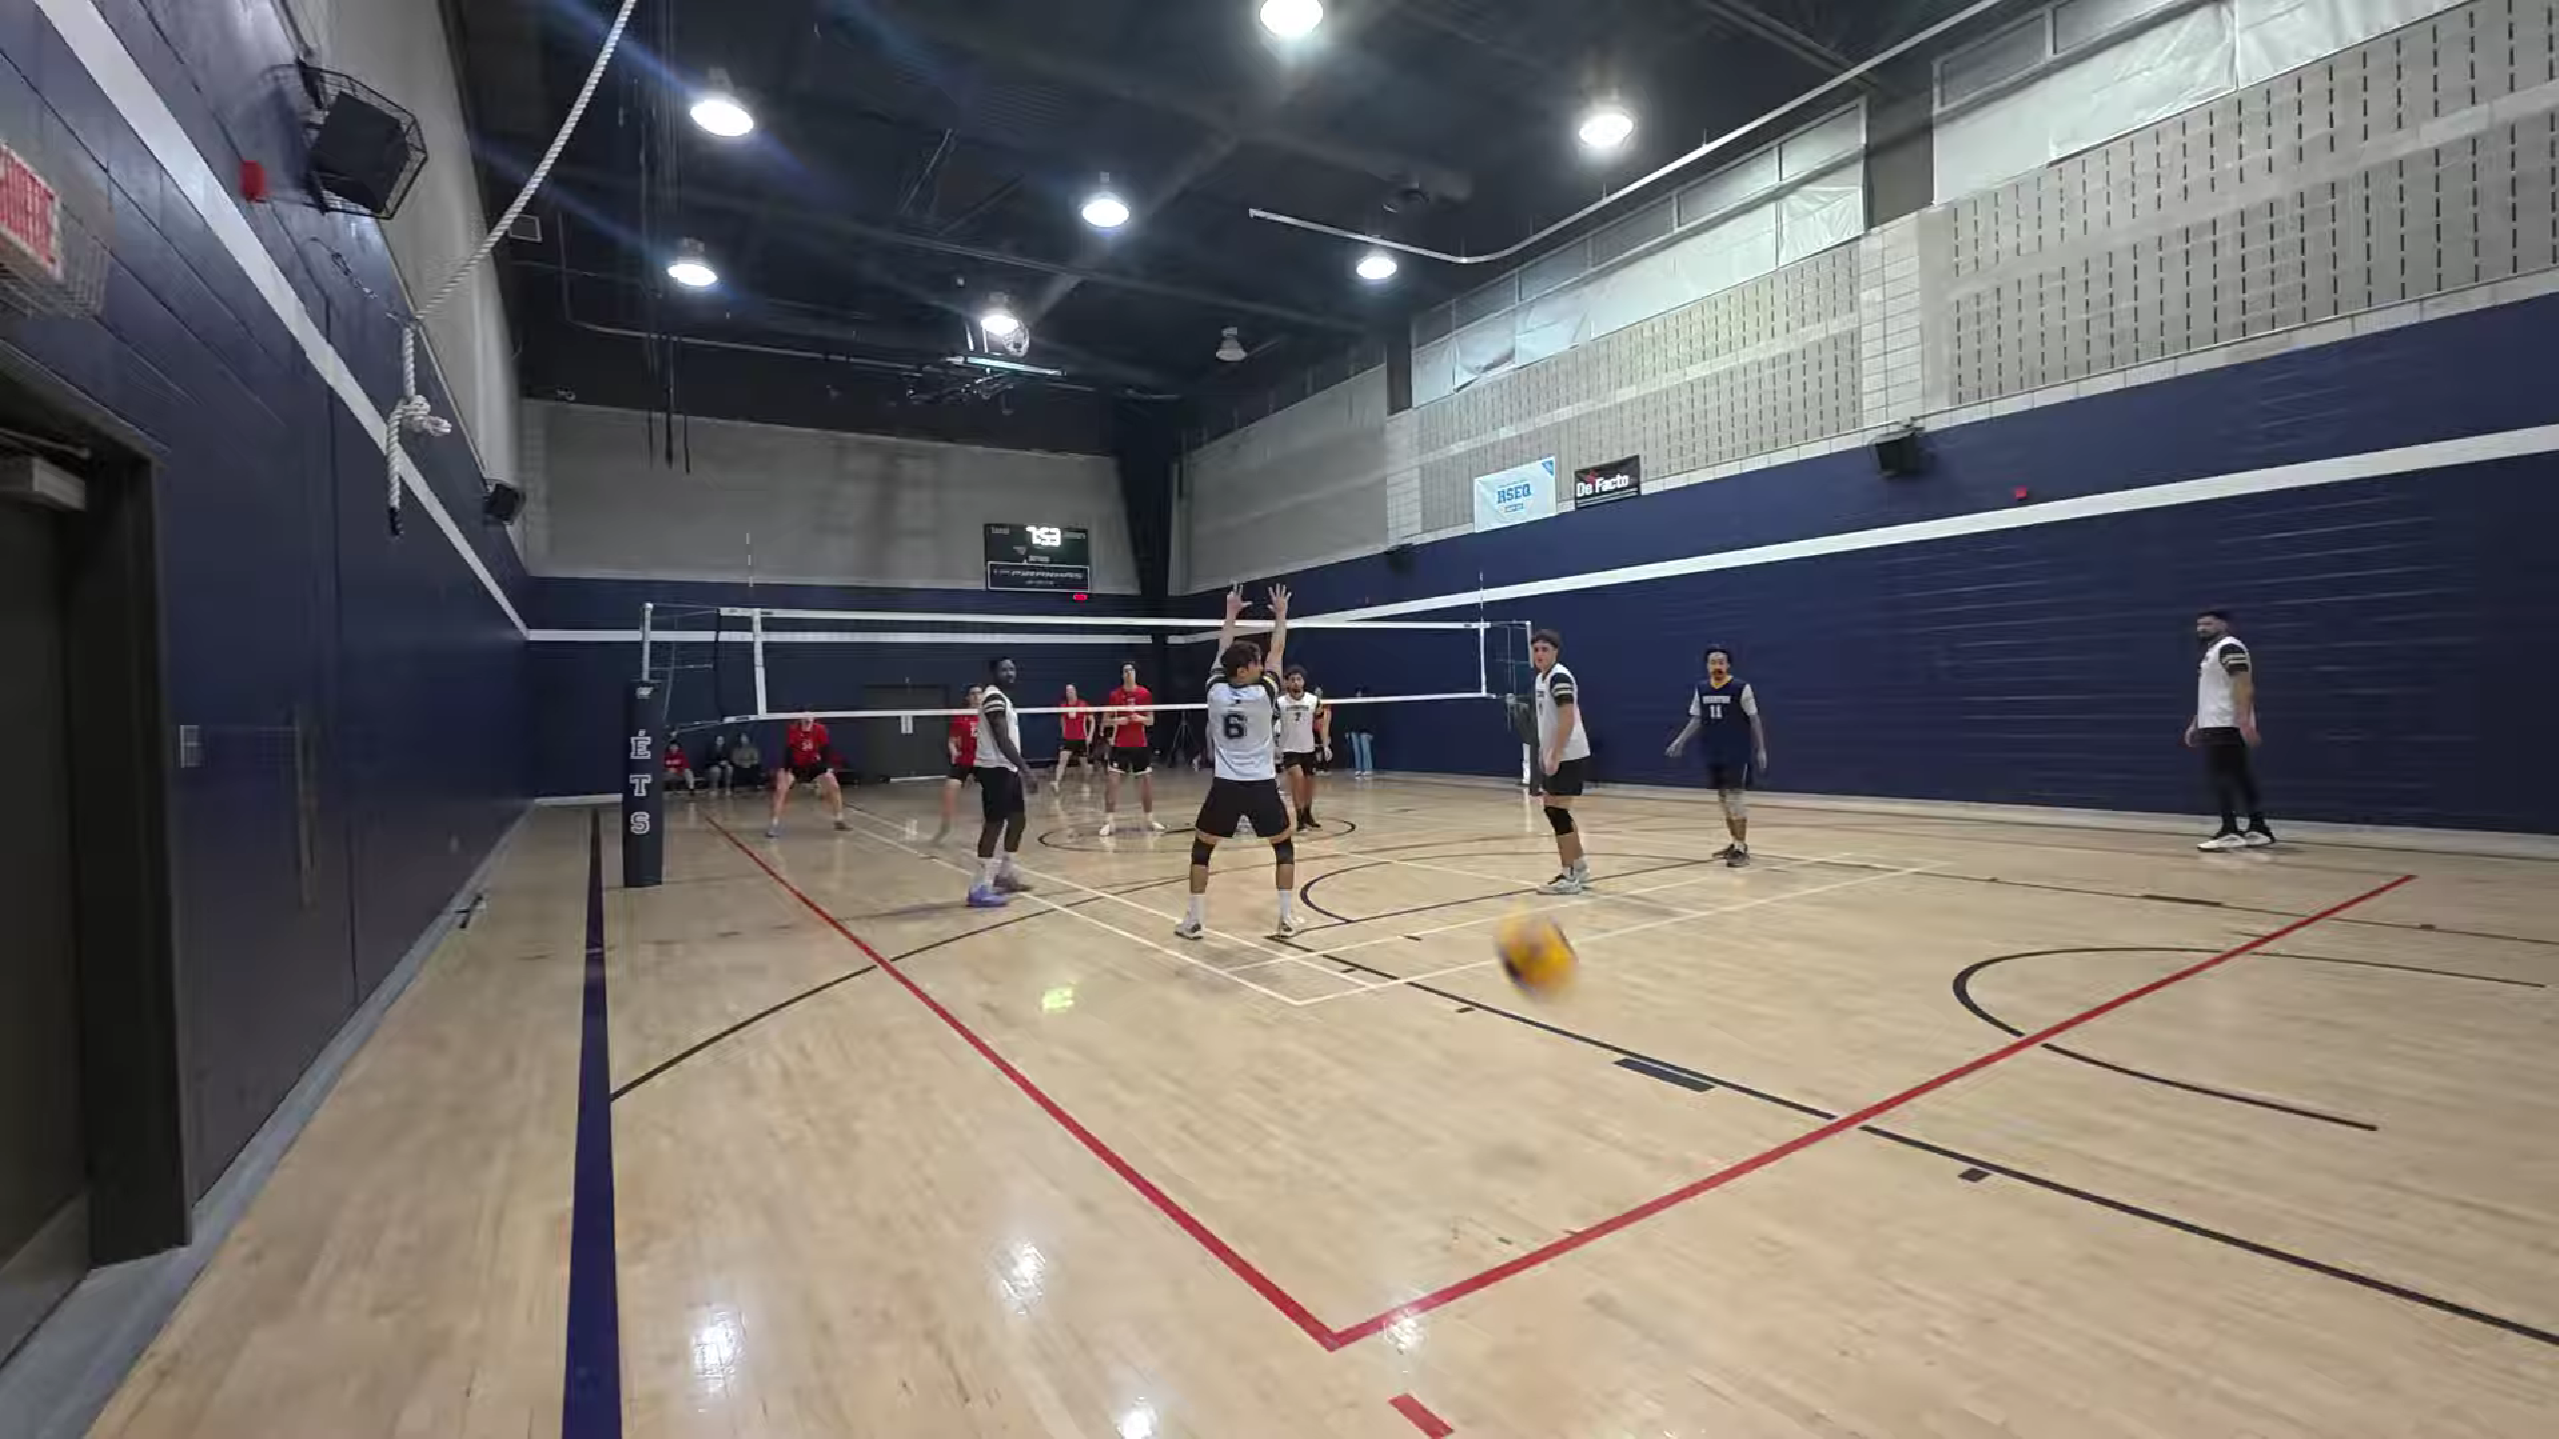Ball: (1485, 896, 1591, 1010)
